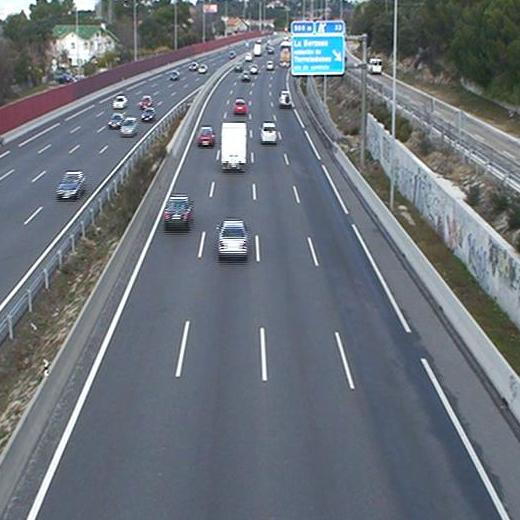car: (218, 221, 247, 254), (164, 196, 190, 229), (260, 122, 276, 144), (198, 126, 214, 146), (279, 90, 292, 108), (234, 100, 247, 113), (250, 64, 258, 75), (242, 71, 250, 82), (234, 61, 242, 71)
small-truck: (221, 122, 245, 172)
truck: (278, 42, 290, 68)
